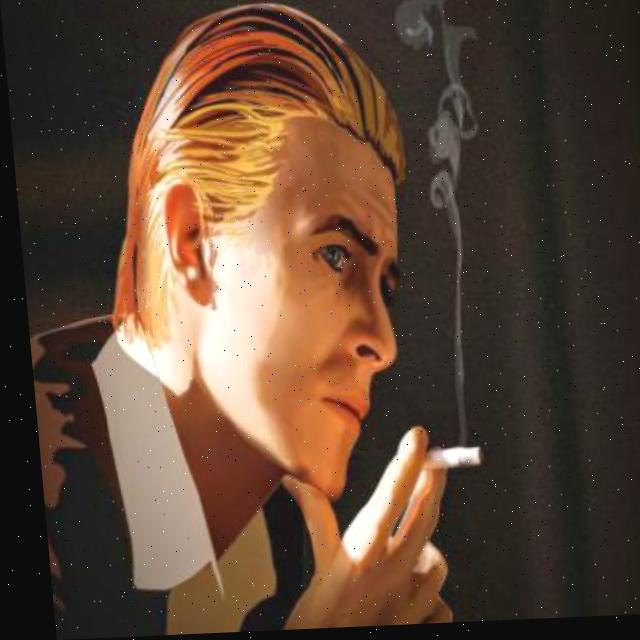cigarette: (401, 446, 478, 480)
